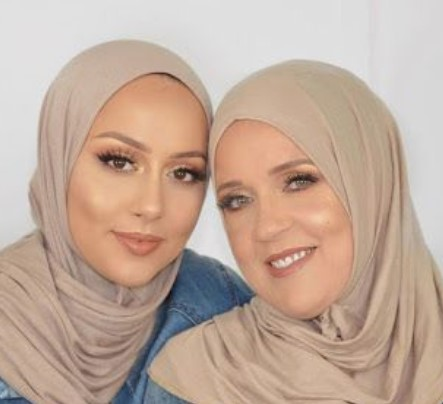face_no_mask: (51, 60, 208, 276), (210, 106, 367, 321)
